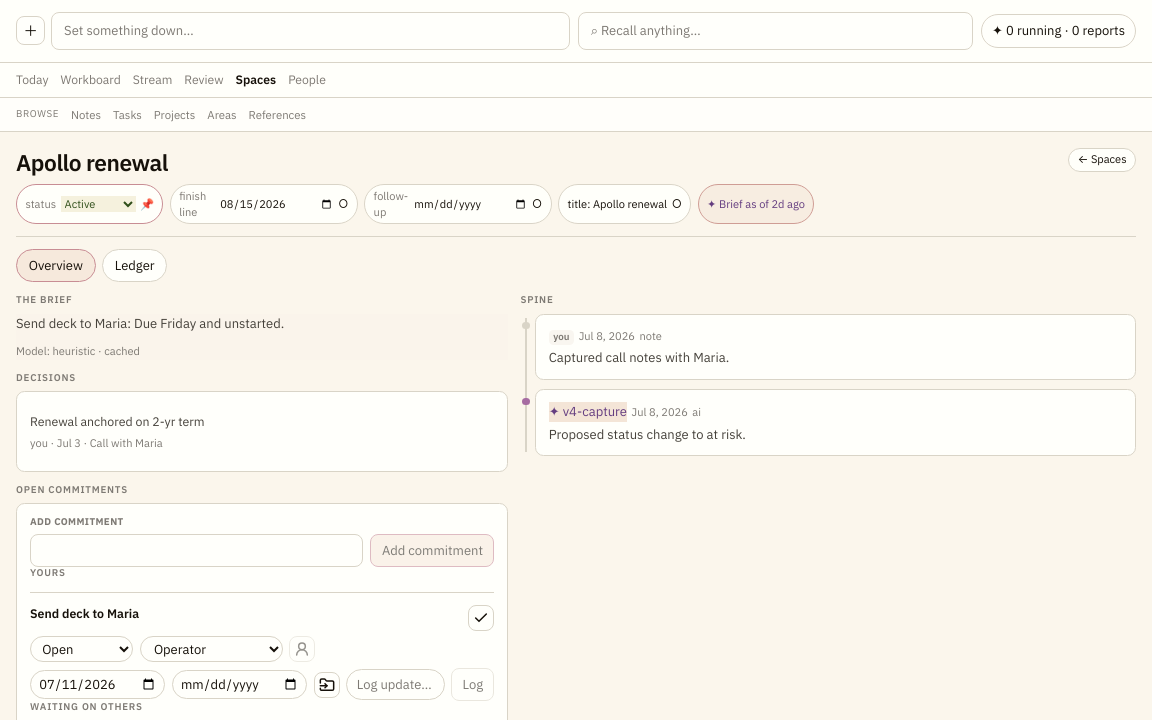
Test: DossierSurface › shows ledger tab with attributed timeline and amend history
Expected: the heading "Apollo renewal" is shown, [16,148,168,177]
Click the tab "Ledger" at (135, 266), box [102,249,167,282]
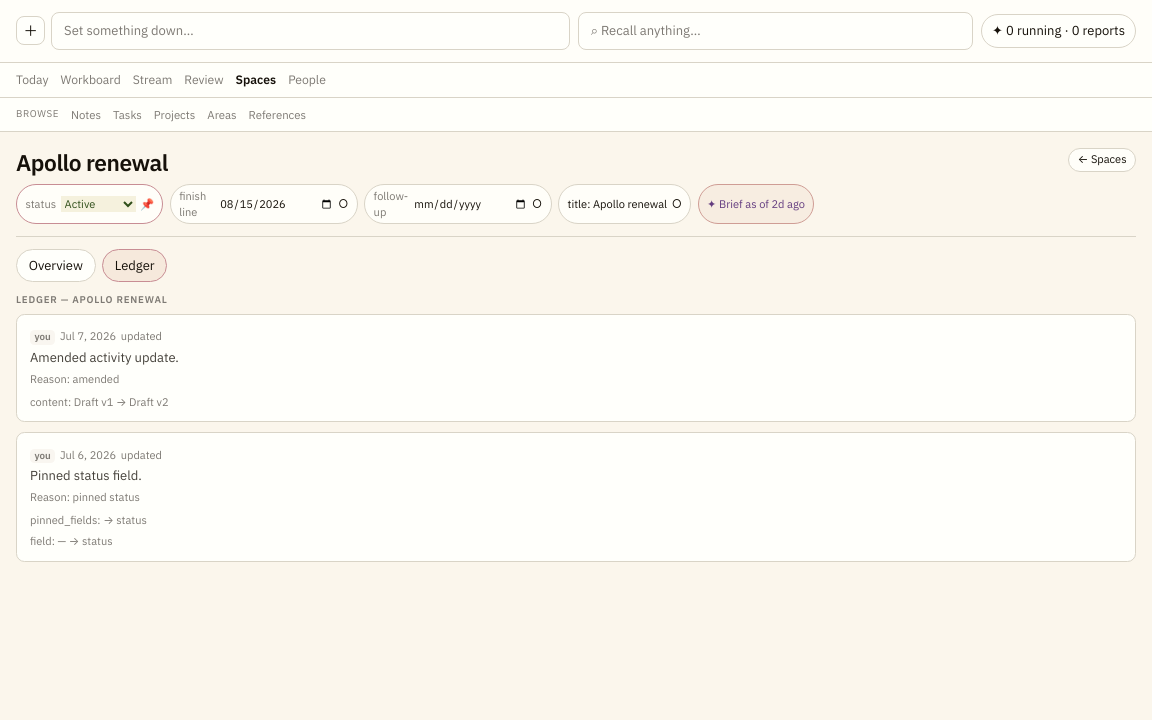
Expected: the text "Amended activity update." is shown, [30,349,179,366]
Expected: the list item "content: Draft v1 → Draft v2" is shown, [30,394,168,408]
Expected: the text "Pinned status field." is shown, [30,467,142,484]
